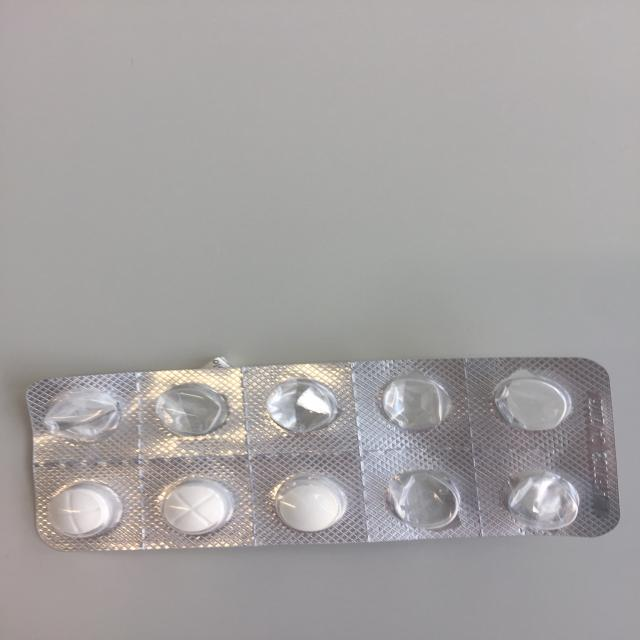Empty: (485, 369, 580, 439), (375, 464, 467, 532), (492, 471, 592, 533), (145, 377, 237, 442), (258, 373, 346, 440), (39, 383, 130, 447), (374, 375, 457, 439)
Pill: (149, 474, 246, 539), (265, 473, 353, 536), (39, 478, 124, 541)
